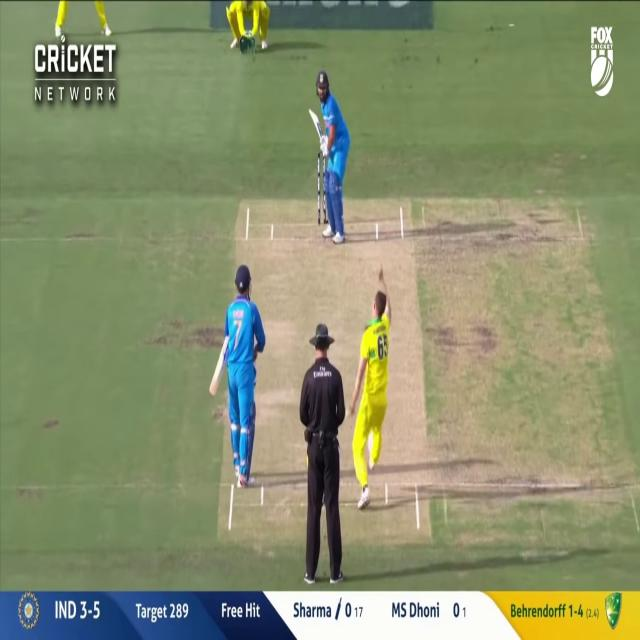stump: (318, 150, 329, 224)
